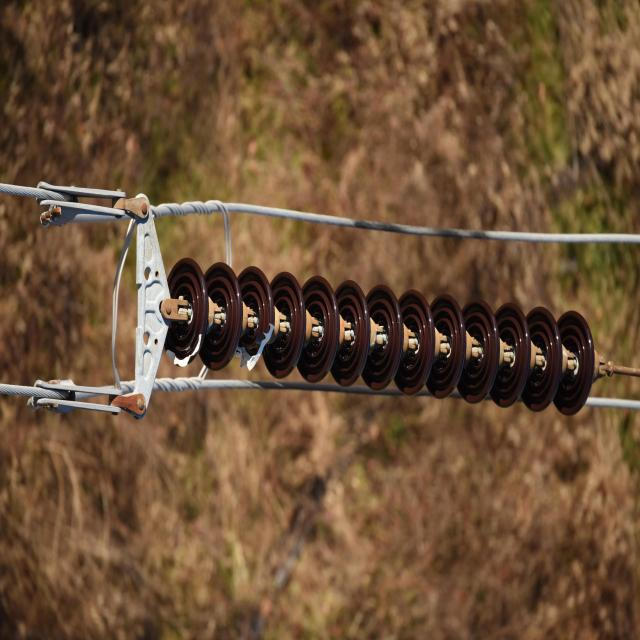broken: (234, 318, 276, 373), (166, 329, 206, 370)
insulator: (165, 255, 593, 415)
